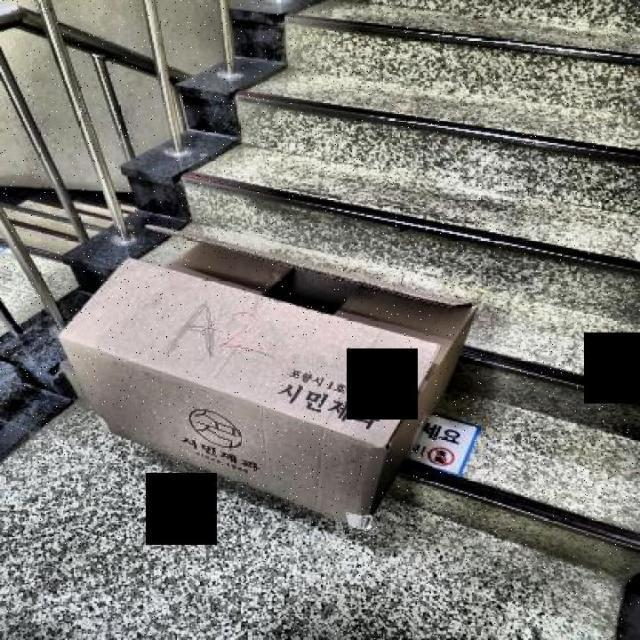box: (41, 218, 494, 540)
